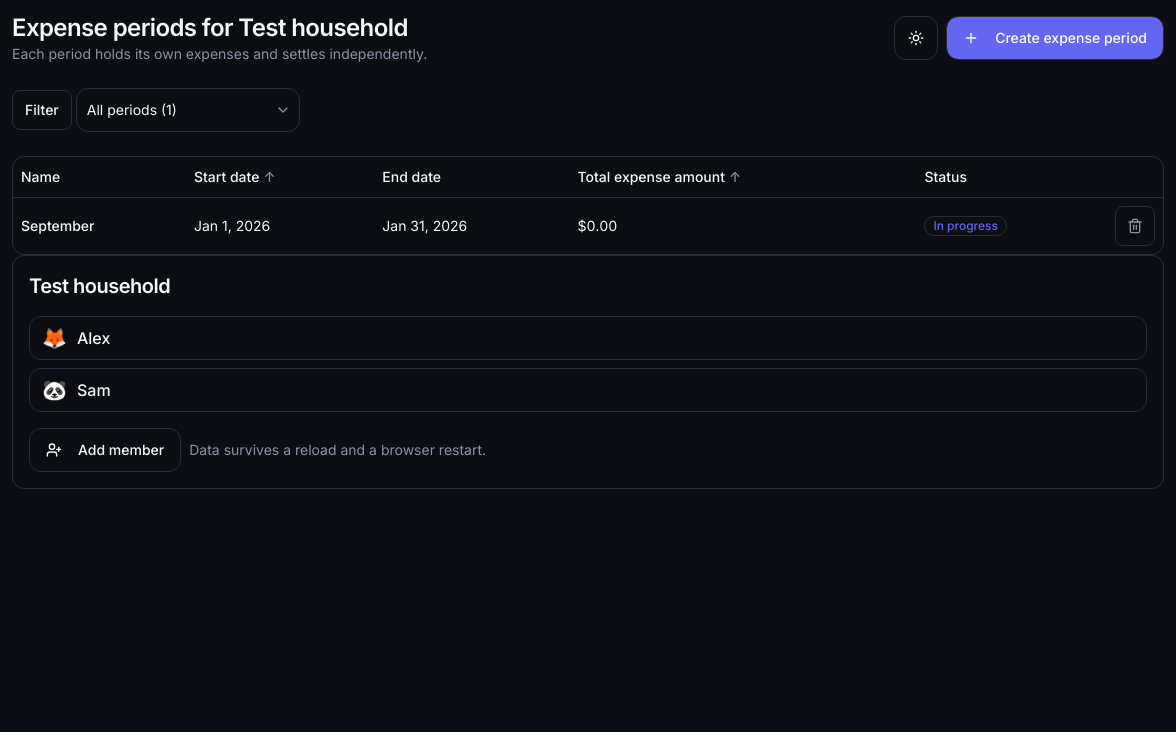
checklist: expenses › rejects a duplicate member name when renaming
Click the button with aria-label "rename alex": (94,338) [29,316,1147,360]
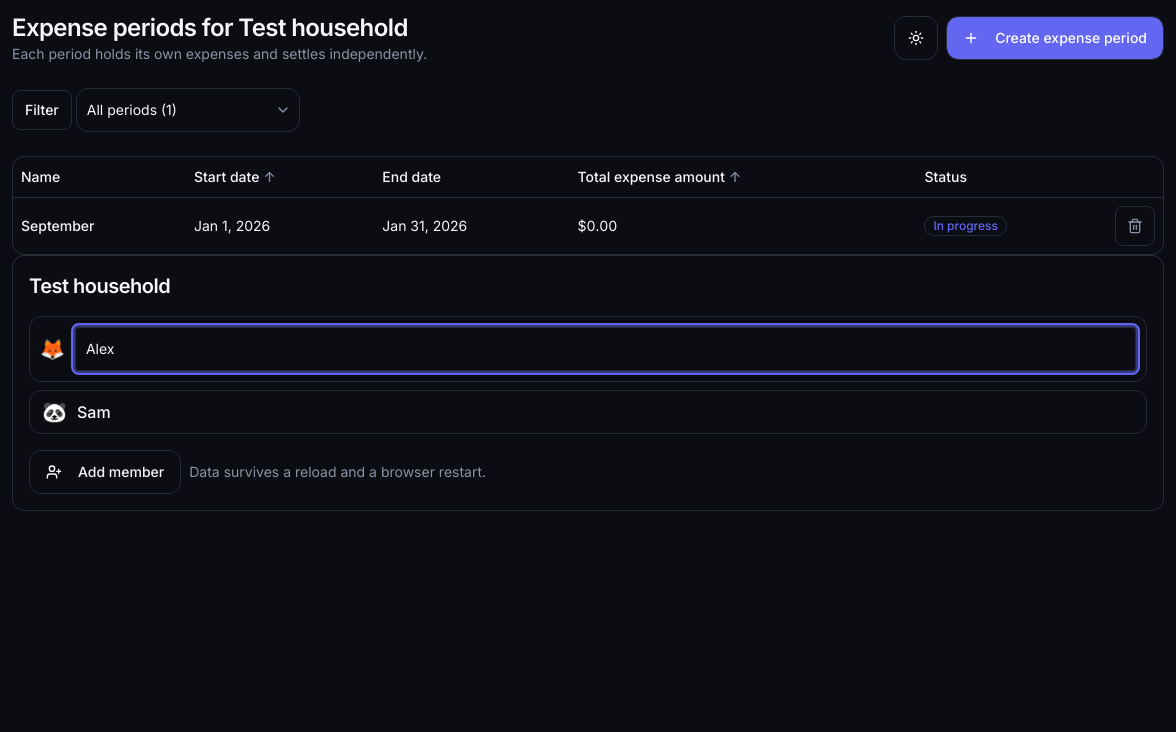
Replace the text in the field named "new name for alex" with "sam": (606,348) [75,326,1136,370]
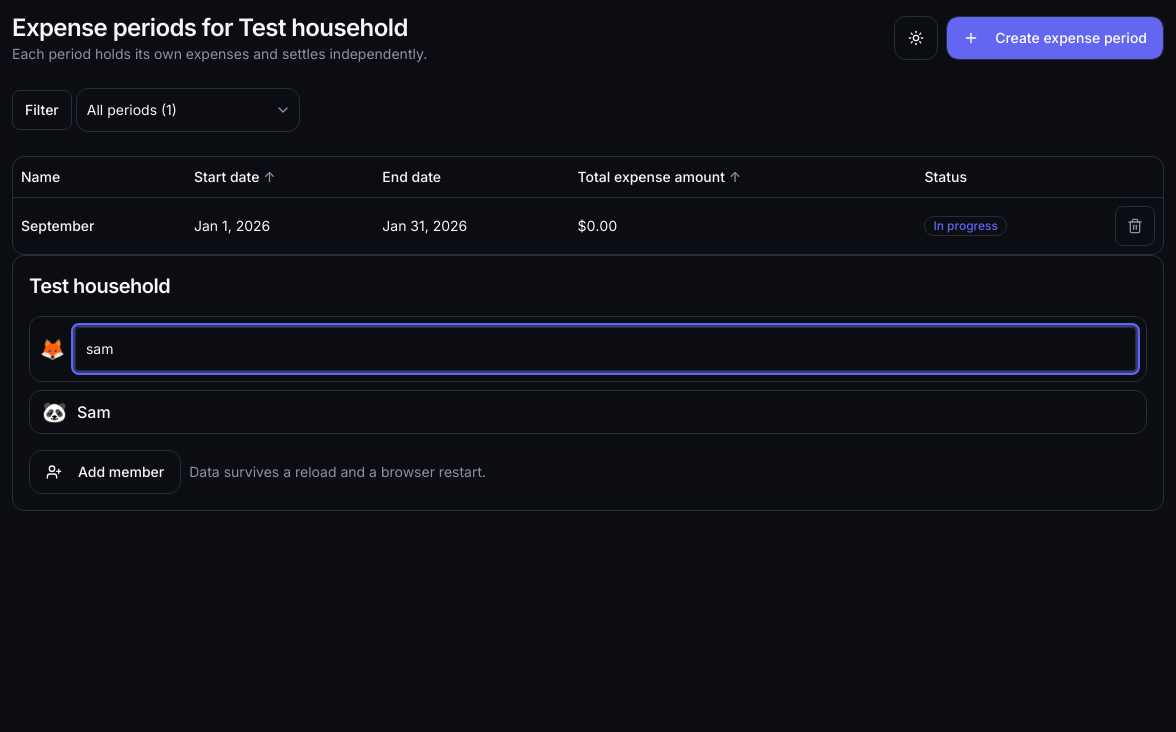
Press Enter
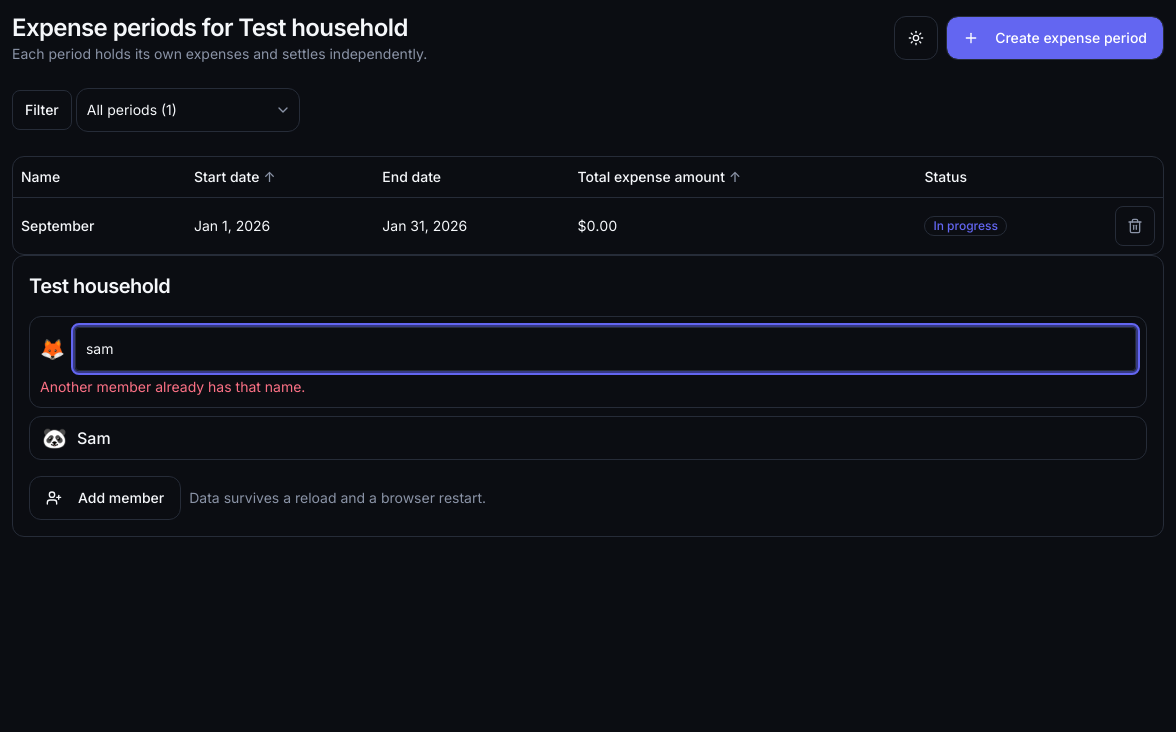
Expected: the text "Another member already has that name." is shown, [40,378,305,394]
